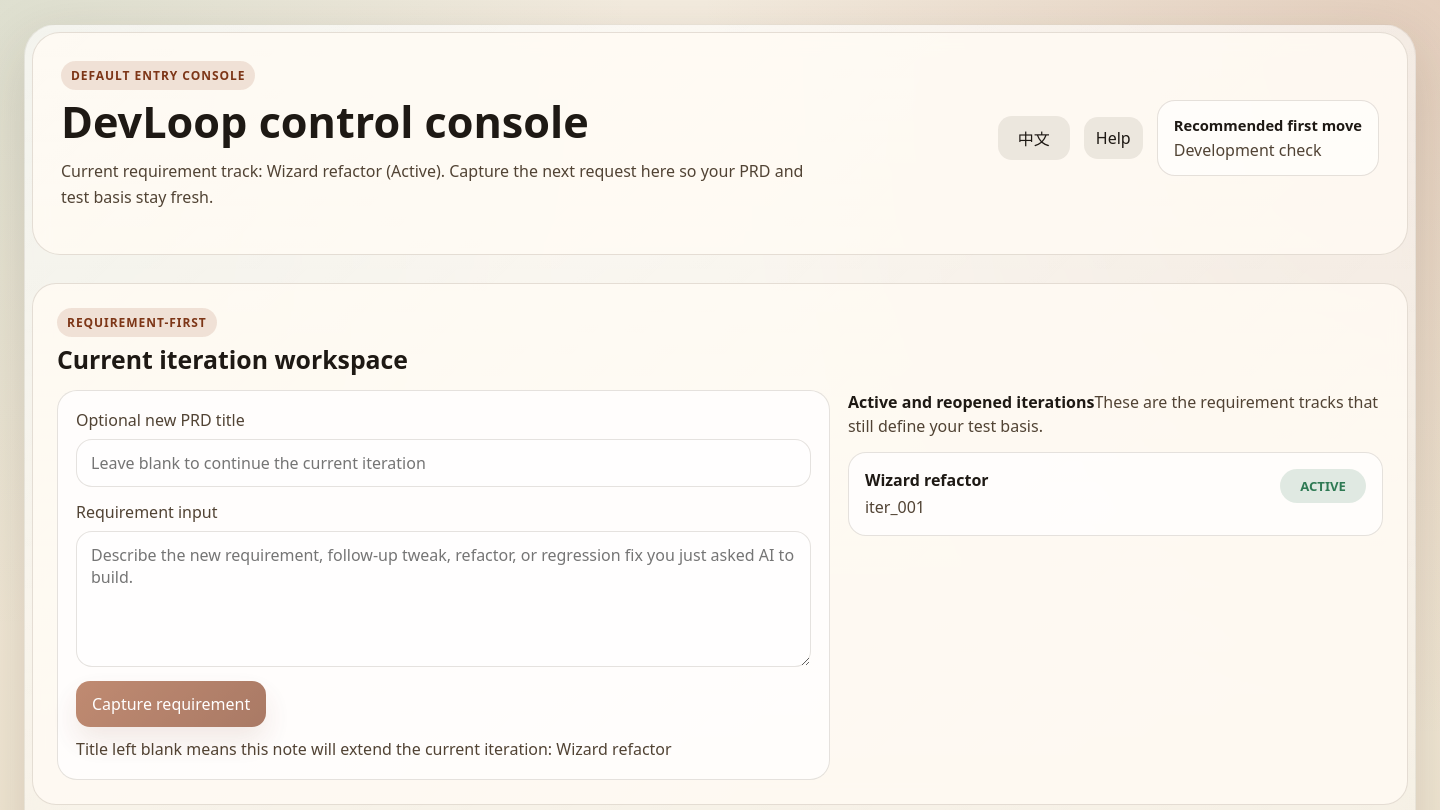
Console App › shows the active iteration rail and captures a requirement from the console
Expected: the text "Wizard refactor" is shown, [865,469,989,491]
Step 1. Type "补一个需求自动生成 PRD 的入口" into the text box labelled "Requirement input" → (443, 599), box [76,531,811,667]
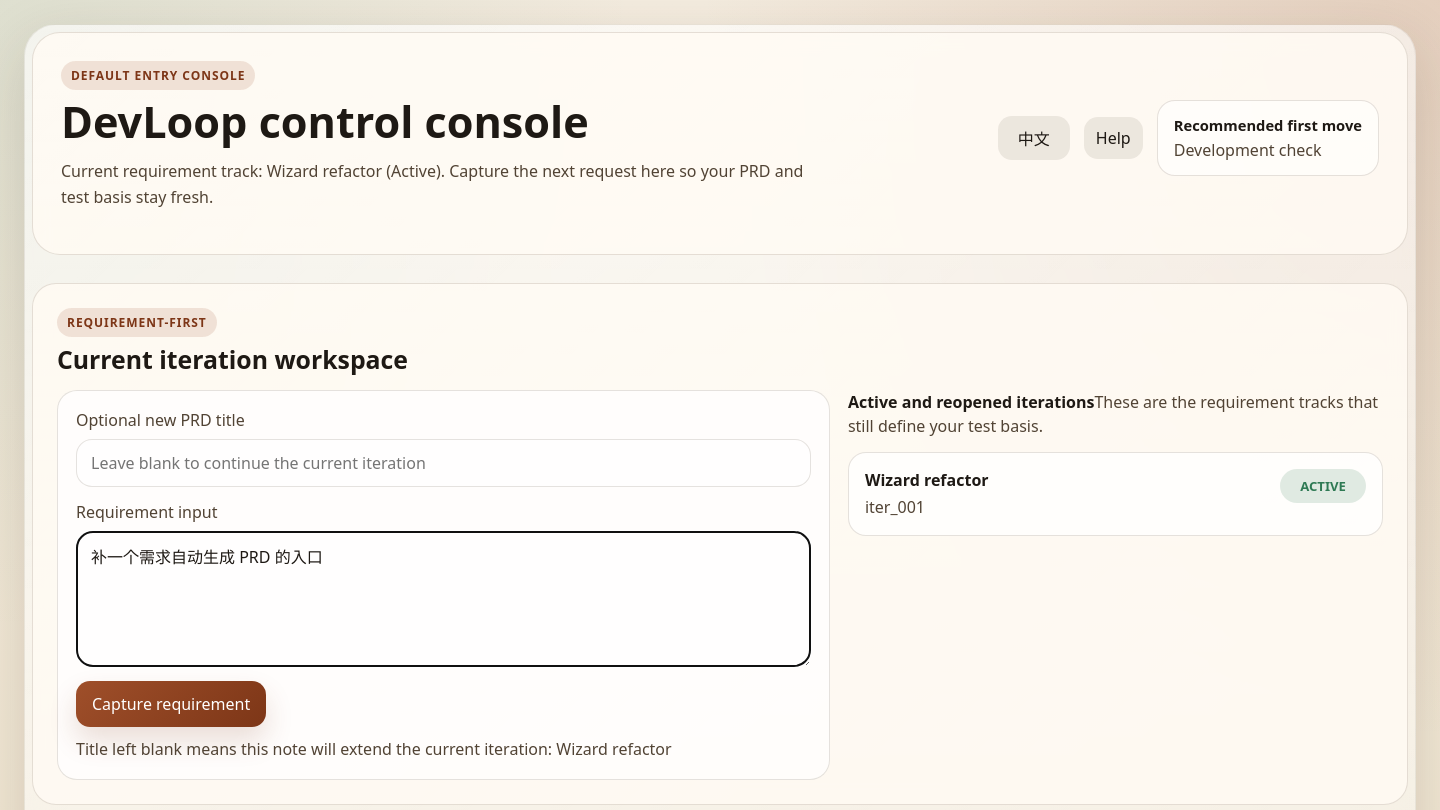
Step 2. Click the button "Capture requirement" → (171, 704), box [76,681,266,727]
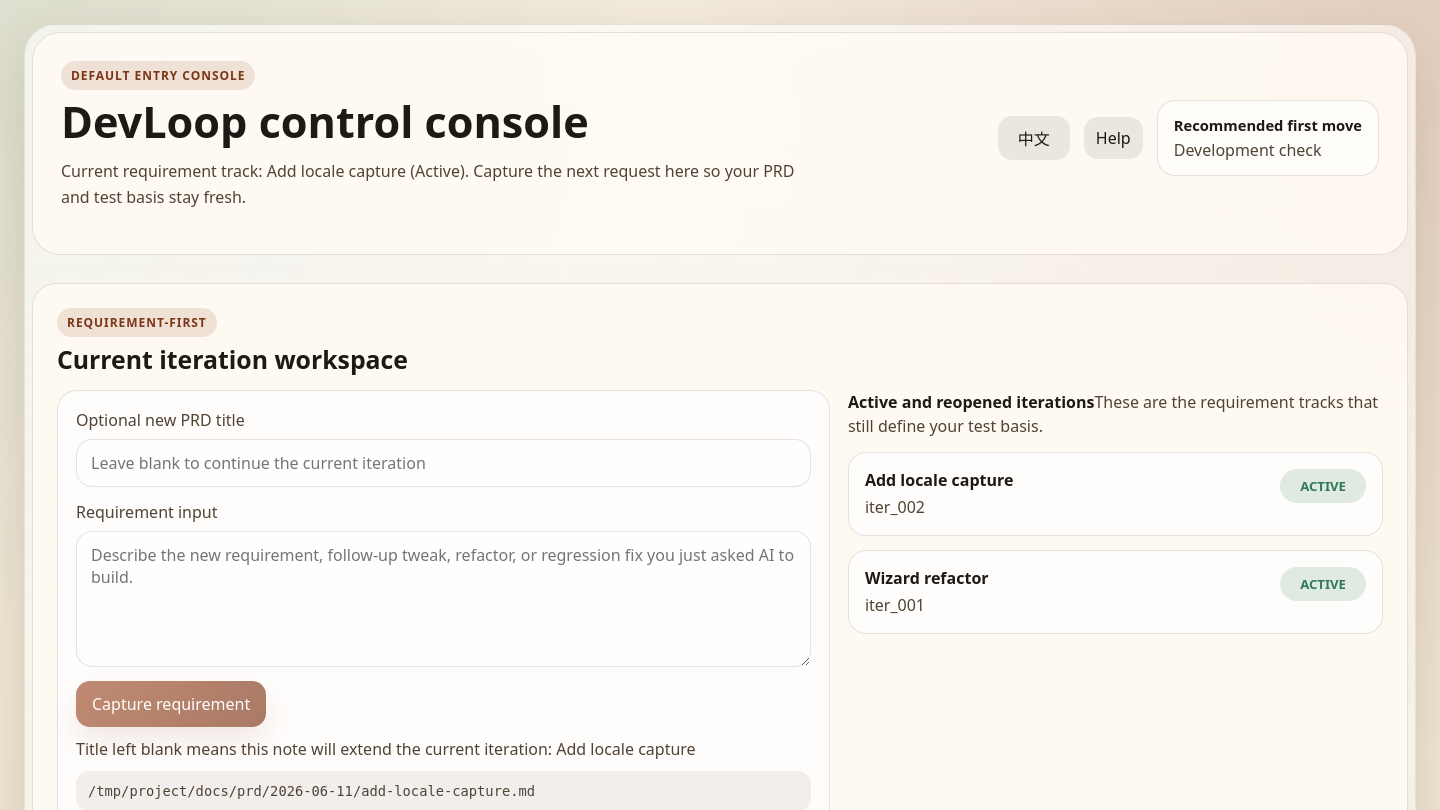
Result: the text "Add locale capture" is shown at [865,469,1013,491]
